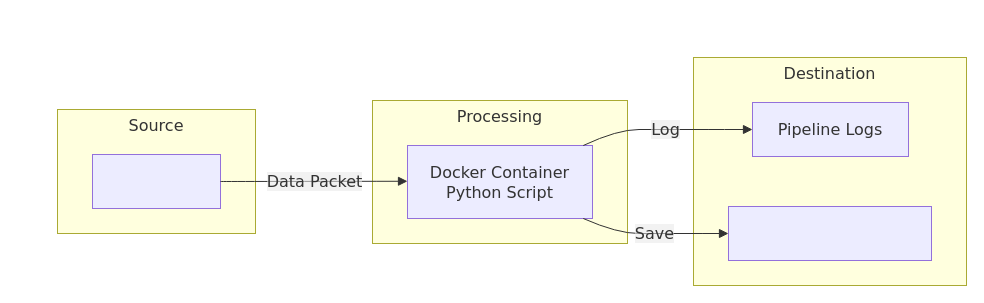
Image size: 984x303. Some labels were removed from this diagram. The centre of each missing label's shape, as x and y in pixels:
"Local JSON Volume" goes at (x=830, y=233).
"Mock API" goes at (x=156, y=181).
